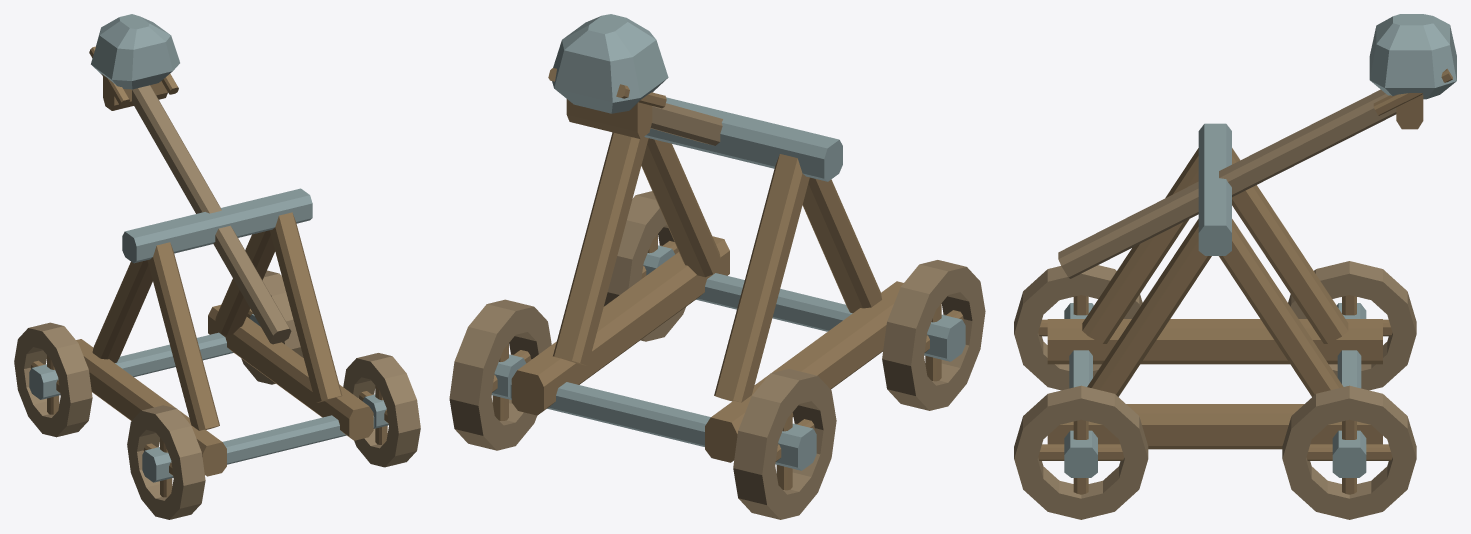
The model's file is catapult-cTpl07PJ.glb.
3 views of the same model, side by side, from view 1: azimuth 30°, elevation 25°; view 2: azimuth 150°, elevation 25°; view 3: azimuth 270°, elevation 25° (orthographic). The views are drawn at different scales.
Visible parts, largest first — view 1: Throwing lever, Timber wheel rim, Timber wheel rim.002, Hinge axle, Chassis rail.001, Frame front.001, Frame front, Timber wheel rim.001, Ammunition, Chassis rail, Frame rear, Axle (+7 smaller); view 2: Timber wheel rim, Timber wheel rim.002, Chassis rail.001, Frame rear, Timber wheel rim.003, Frame rear.001, Ammunition, Chassis rail, Hinge axle, Frame front.001, Frame front, Axle.001 (+7 smaller); view 3: Chassis rail, Timber wheel rim.001, Timber wheel rim.003, Throwing lever, Chassis rail.001, Ammunition, Frame front.001, Frame rear.001, Frame rear, Timber wheel rim.002, Timber wheel rim, Frame front (+11 smaller).
Boxes of the visible parts, box(x1,y1,x2,y2) form: Throwing lever: box(132, 85, 291, 344); Timber wheel rim: box(127, 405, 205, 519); Timber wheel rim.002: box(14, 322, 92, 437); Hinge axle: box(122, 188, 312, 263); Chassis rail.001: box(208, 305, 373, 440); Frame front.001: box(270, 212, 342, 402); Frame front: box(147, 242, 219, 430); Timber wheel rim.001: box(343, 353, 420, 467); Ammunition: box(91, 14, 179, 89); Chassis rail: box(76, 339, 226, 476); Frame rear: box(92, 260, 152, 362); Axle: box(223, 415, 374, 464); Timber wheel rim: box(882, 260, 985, 410); Timber wheel rim.002: box(733, 369, 836, 519); Chassis rail.001: box(511, 236, 729, 415); Frame rear: box(714, 154, 809, 402); Timber wheel rim.003: box(449, 299, 551, 450); Frame rear.001: box(553, 132, 648, 365); Ammunition: box(552, 14, 668, 113); Chassis rail: box(705, 281, 903, 462); Hinge axle: box(644, 97, 842, 181); Frame front.001: box(641, 138, 720, 277); Frame front: box(802, 177, 881, 313); Axle.001: box(510, 382, 710, 446); Chassis rail: box(1047, 319, 1382, 364); Timber wheel rim.001: box(1014, 385, 1148, 519); Timber wheel rim.003: box(1282, 385, 1416, 519); Throwing lever: box(1058, 89, 1396, 278); Chassis rail.001: box(1047, 404, 1382, 449); Ammunition: box(1369, 14, 1456, 99); Frame front.001: box(1087, 219, 1211, 396); Frame rear.001: box(1219, 219, 1343, 396); Frame rear: box(1232, 148, 1348, 343); Timber wheel rim.002: box(1288, 261, 1416, 390); Timber wheel rim: box(1014, 265, 1142, 390); Frame front: box(1082, 148, 1198, 343).
Bounding box in the file's own units: 1.02 × 1.42 × 1.32.
